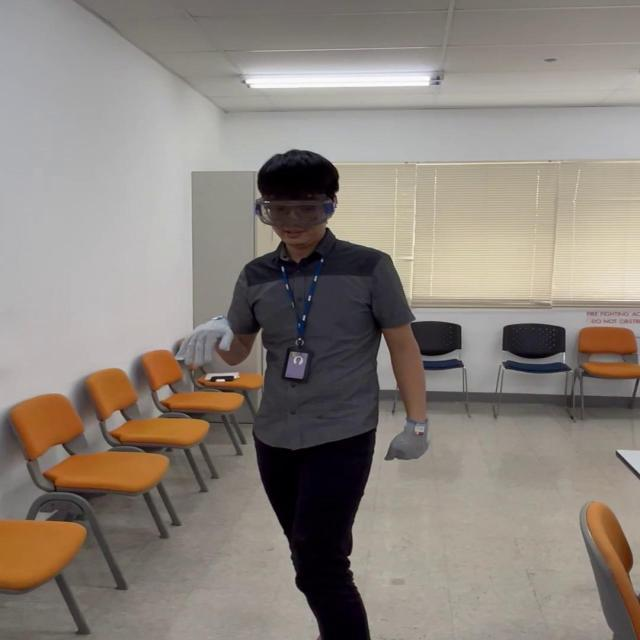gloved_hand: (180, 309, 248, 374), (383, 418, 434, 464)
